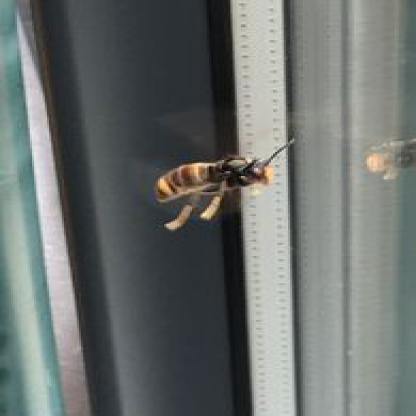Asian Hornet: (152, 138, 298, 235)
